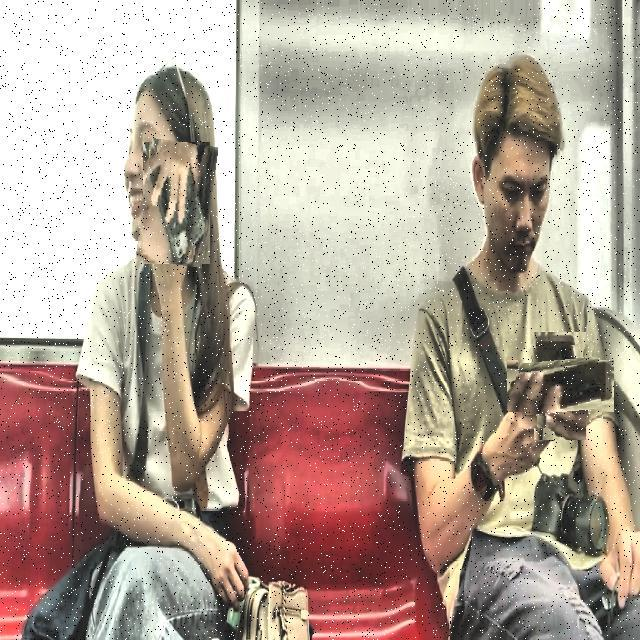Phone: (139, 140, 214, 266), (519, 344, 602, 428)
